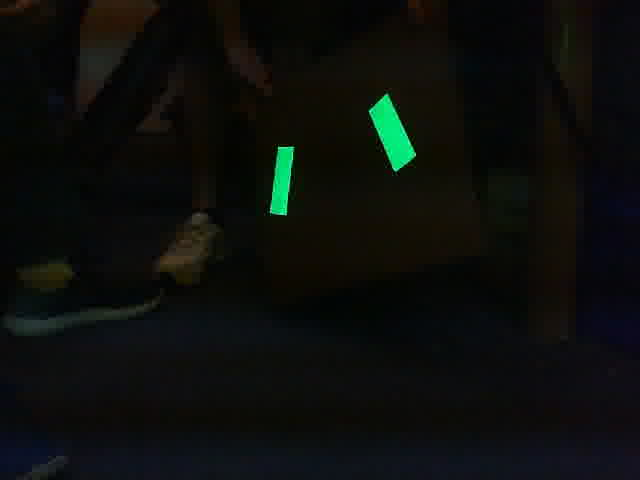target: (268, 93, 417, 217)
